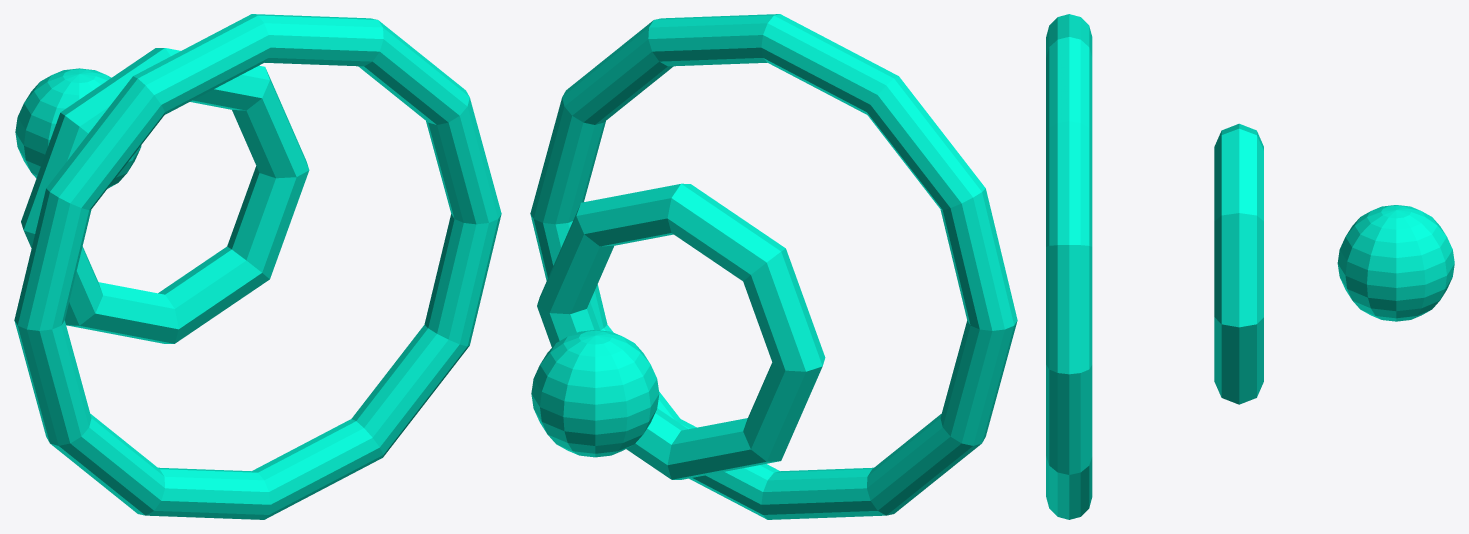
File: 超音波.fbx
The picture shows the model from 3 angles, left to right: view 1: azimuth 30°, elevation 25°; view 2: azimuth 150°, elevation 25°; view 3: azimuth 270°, elevation 25°; orthographic projection. The views are drawn at different scales.
Visible parts, largest first — view 1: pTorus2, pTorus1, pSphere1; view 2: pTorus2, pTorus1, pSphere1; view 3: pTorus2, pTorus1, pSphere1.
Part boxes in pixels (box(x1,y1,x2,y2)): pTorus2: box(14, 14, 501, 519); pTorus1: box(21, 48, 309, 343); pSphere1: box(15, 68, 141, 188); pTorus2: box(530, 14, 1017, 519); pTorus1: box(537, 183, 825, 479); pSphere1: box(531, 330, 659, 457); pTorus2: box(1046, 14, 1092, 519); pTorus1: box(1214, 123, 1263, 404); pSphere1: box(1337, 205, 1454, 321).
Bounding box in the file's own units: 2.2 × 2.2 × 1.77.
